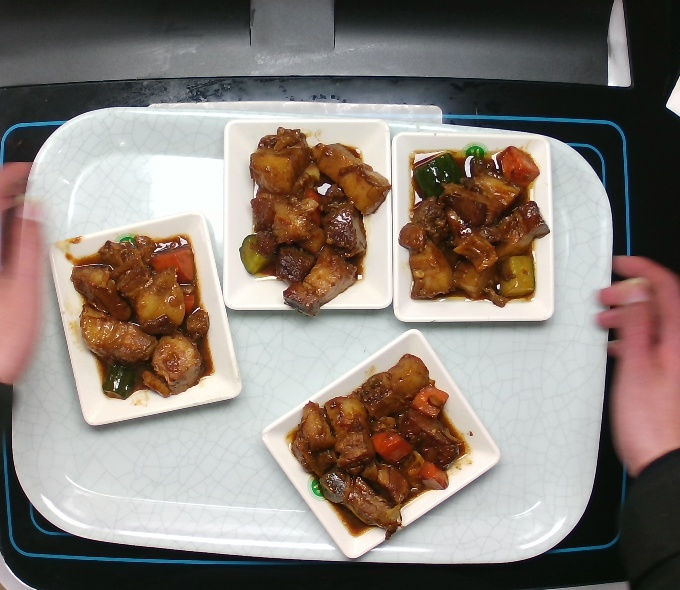wcq-JiangRou: (294, 346, 467, 534), (239, 119, 383, 305), (401, 137, 545, 323), (68, 219, 212, 405)
